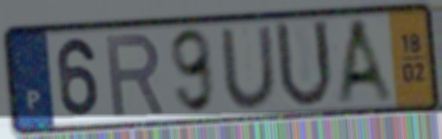6: (55, 35, 102, 121)
9: (167, 25, 219, 117)
A: (333, 15, 399, 106)
R: (103, 31, 168, 120)
U: (272, 17, 337, 113), (216, 23, 281, 112)
